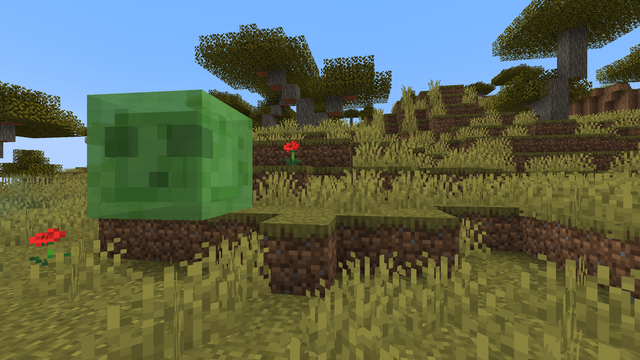slimes: (82, 82, 255, 221)
